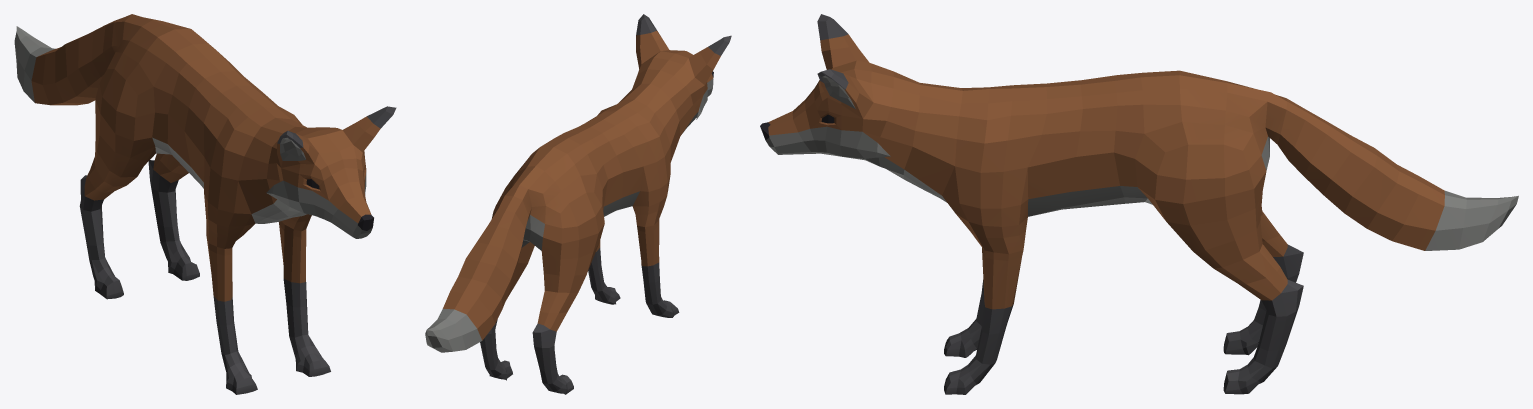
Rendered from ani_fox.glb.
3 views of the same model, side by side, from view 1: azimuth 30°, elevation 25°; view 2: azimuth 150°, elevation 25°; view 3: azimuth 270°, elevation 25° (orthographic). The views are drawn at different scales.
Parts seen in each view (by area): view 1: ani_fox; view 2: ani_fox; view 3: ani_fox.
Part boxes in pixels (box(x1,y1,x2,y2)): ani_fox: box(14, 14, 396, 394); ani_fox: box(425, 14, 731, 394); ani_fox: box(760, 14, 1518, 394).
Bounding box in the file's own units: 0.1697 × 0.4292 × 0.9014.
